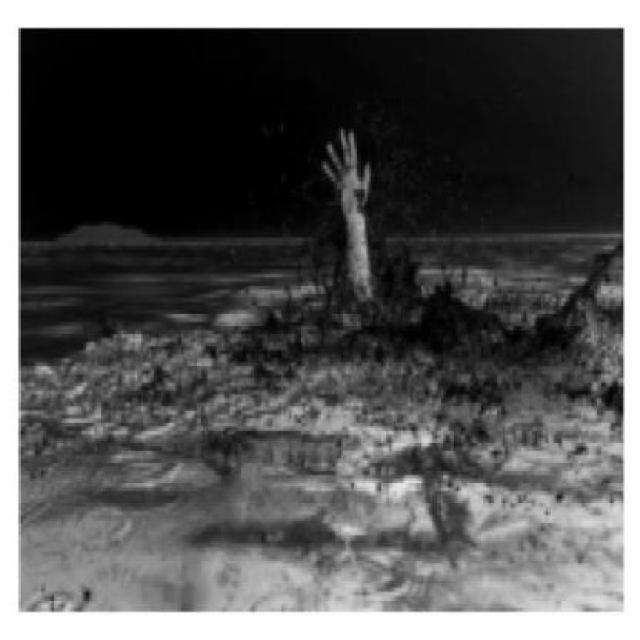drowning: (326, 130, 386, 292)
